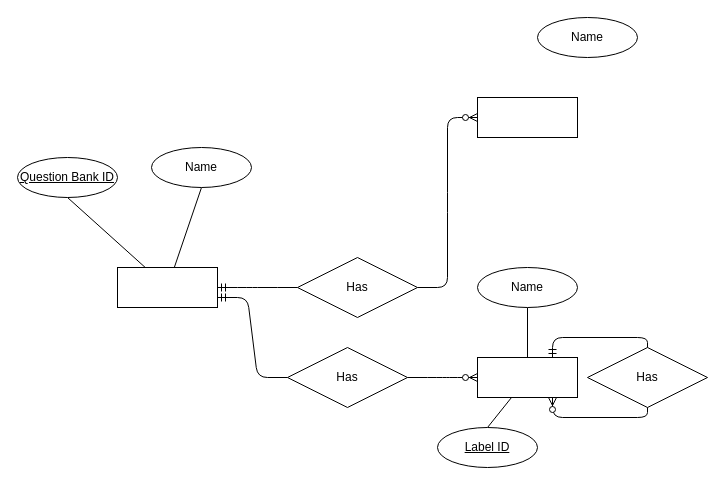
The diagram is 725 pixels wide and 485 high, and some of its shapes have lost their labels. Each missing label, with the box of its shape:
Label: (476, 356, 578, 398)
Question: (476, 96, 578, 138)
Question bank: (116, 266, 218, 308)
